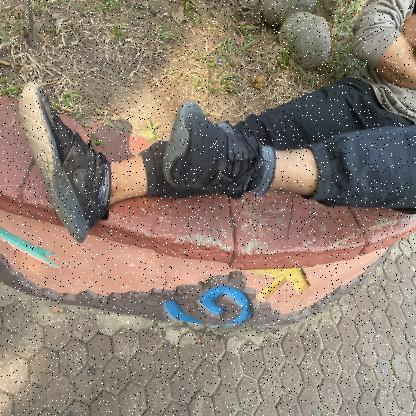leg: (160, 76, 416, 220), (0, 75, 166, 239)
